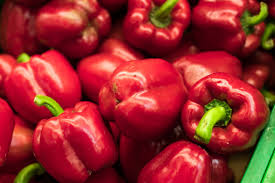bell pepper: (101, 55, 197, 136), (29, 91, 115, 170), (176, 69, 265, 144), (3, 42, 81, 110), (195, 1, 268, 53), (30, 1, 110, 45), (140, 141, 215, 183), (128, 3, 187, 44)
